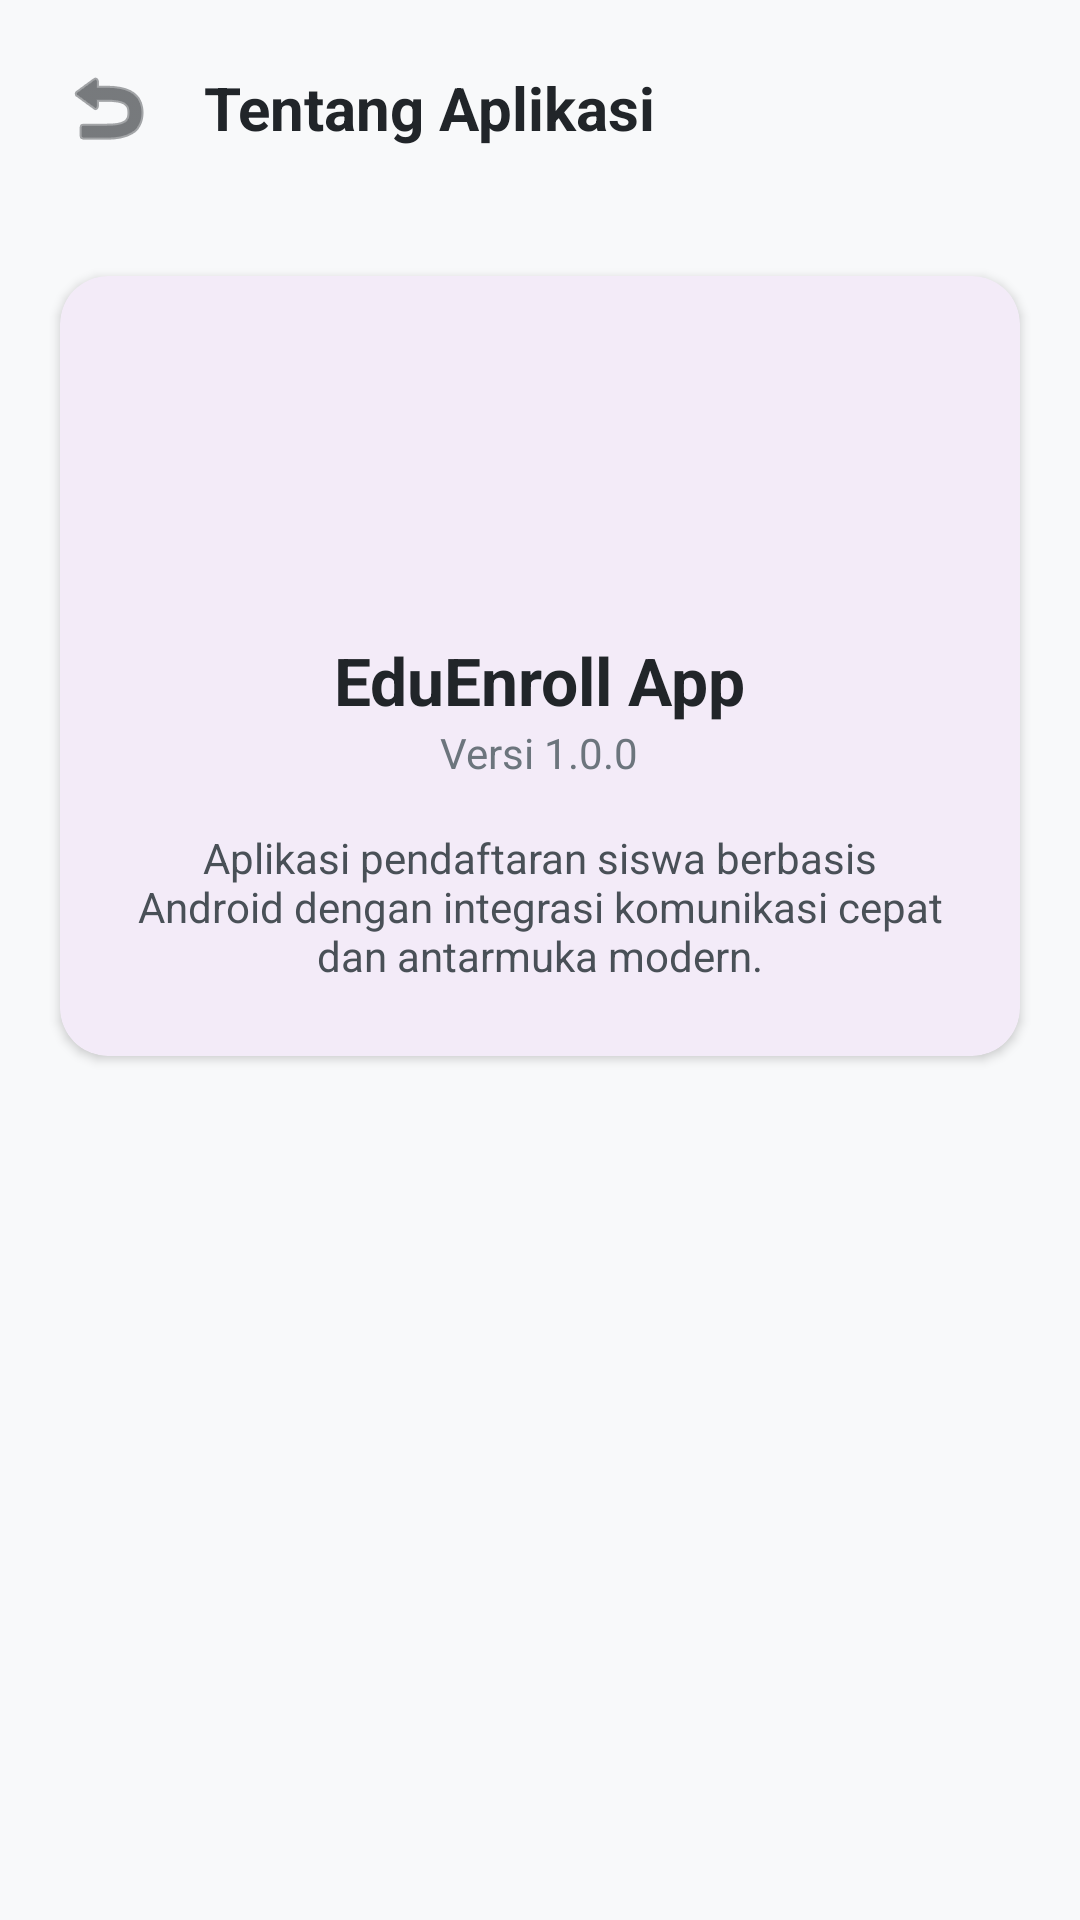

Named icons in this screenshot (1080w x 1920h) and their centers, (x,y):
revert: (109,108)
